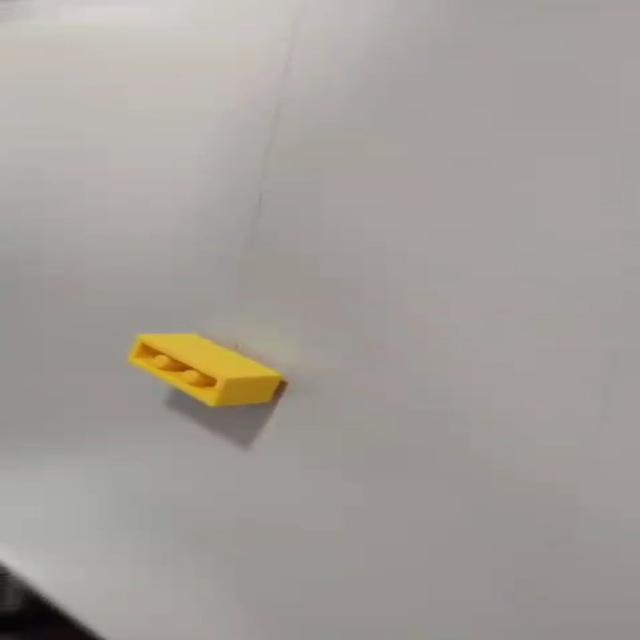C3x1x1: (116, 328, 301, 414)
